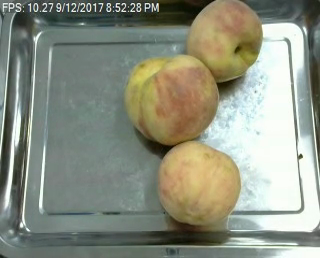Peach: (125, 54, 219, 145), (157, 140, 242, 228), (183, 1, 258, 85)
